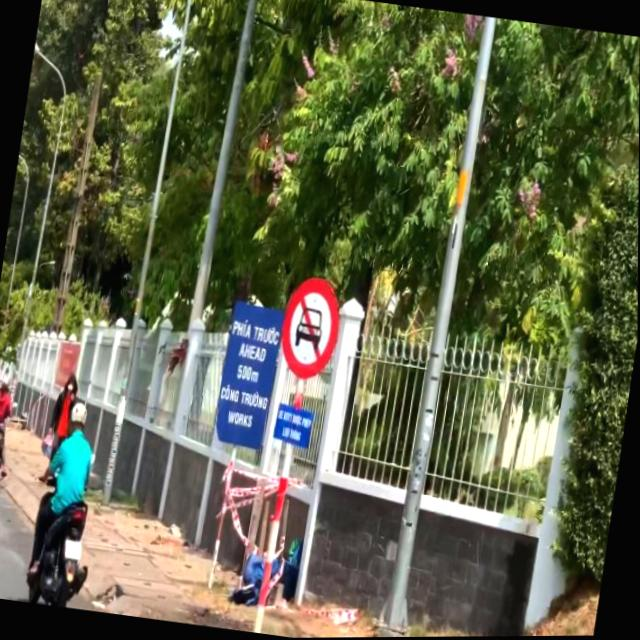Cam xe oto: (276, 276, 345, 381)
